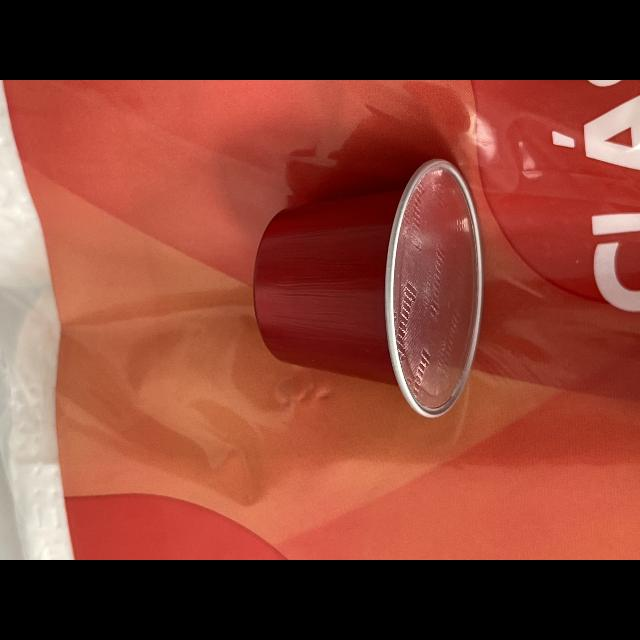intact_capsule: (237, 140, 493, 432)
